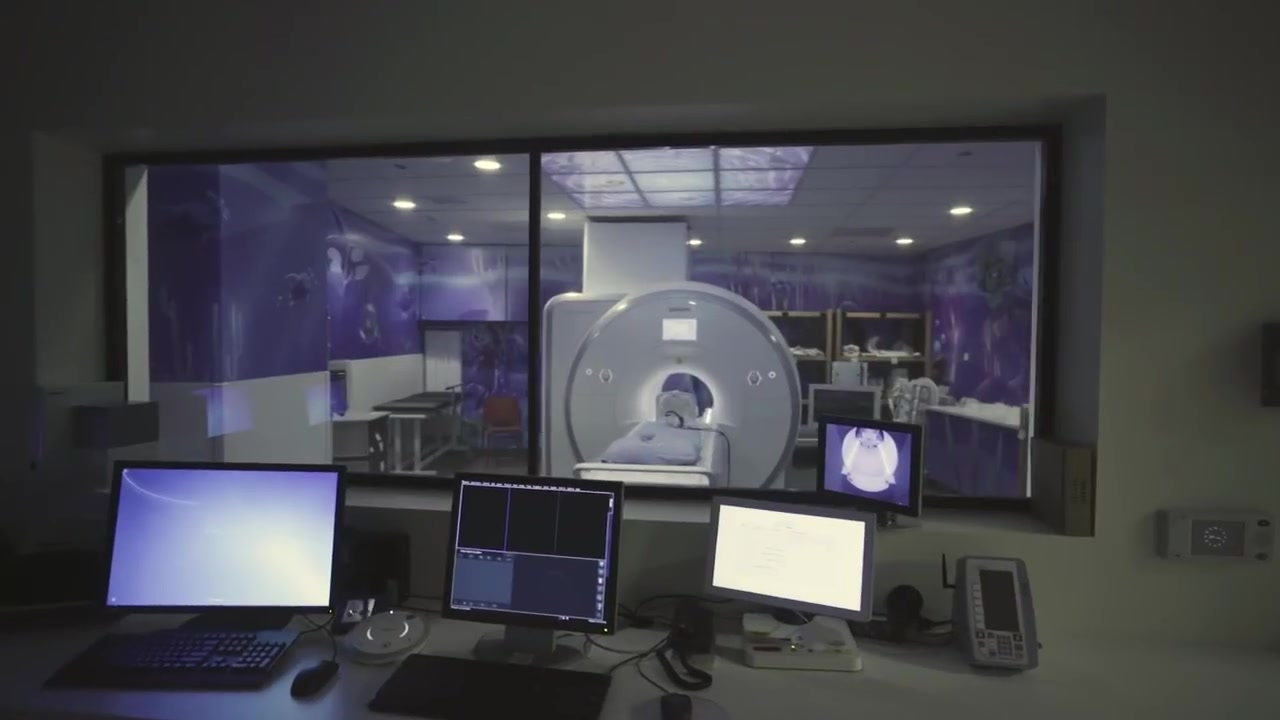bedside_monitor: (806, 383, 883, 430)
bedside_table: (334, 412, 392, 478)
chair: (480, 396, 524, 454)
computer: (97, 459, 344, 614), (440, 471, 623, 634), (712, 492, 875, 624), (819, 416, 923, 517)
countertop: (1, 619, 1280, 720)
exam_table: (371, 390, 466, 474)
keyboard: (369, 654, 610, 720), (46, 633, 296, 691)
mouse: (289, 658, 339, 696), (658, 694, 693, 720)
xray_bed: (574, 418, 717, 486)
xray_machine: (543, 281, 800, 486)
